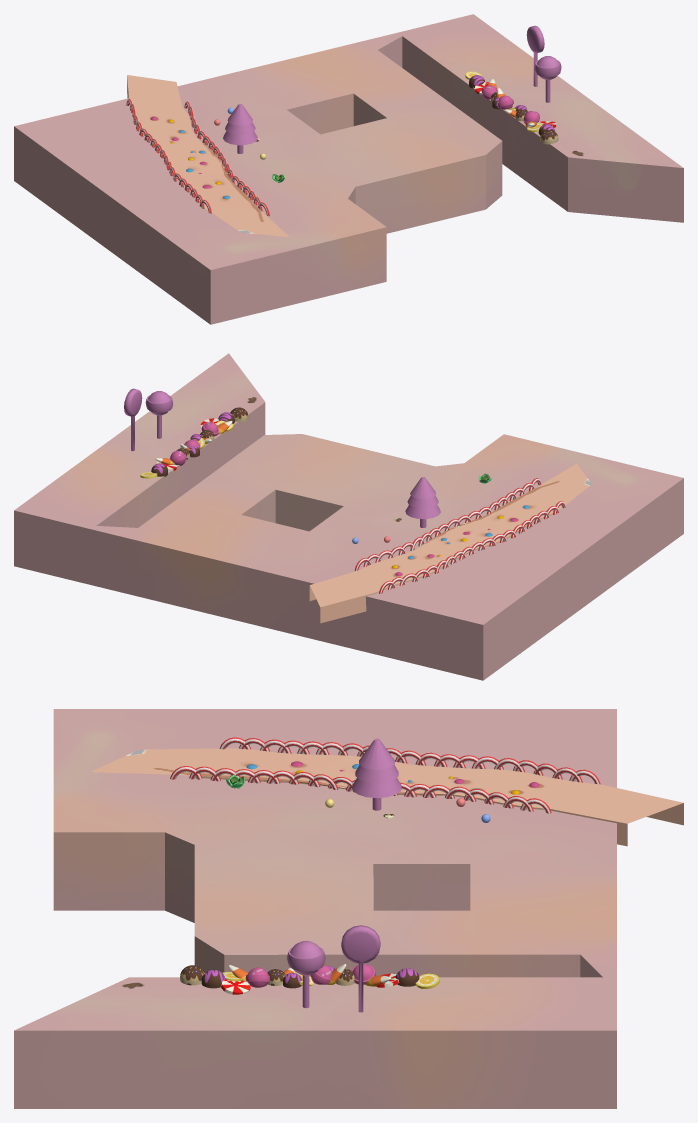
File: 여러가지.fbx
3 views of the same model, one above another, from view 1: azimuth 30°, elevation 25°; view 2: azimuth 150°, elevation 25°; view 3: azimuth 270°, elevation 25° (orthographic). The views are drawn at different scales.
Visible parts, largest first — view 1: Object031, Sphere059, Object024, Cylinder064, Sphere022, Cylinder065; view 2: Object031, Sphere059, Object024, Cylinder064, Sphere022, Cylinder065; view 3: Object031, Sphere059, Object024, Cylinder064, Cylinder065, Sphere022.
Part boxes in pixels (x1=…): Object031: x1=14, y1=14, x2=683, y2=324; Sphere059: x1=126, y1=75, x2=289, y2=237; Object024: x1=491, y1=88, x2=558, y2=144; Cylinder064: x1=223, y1=104, x2=257, y2=153; Sphere022: x1=534, y1=56, x2=561, y2=102; Cylinder065: x1=526, y1=25, x2=544, y2=86; Object031: x1=14, y1=353, x2=683, y2=680; Sphere059: x1=309, y1=463, x2=591, y2=623; Object024: x1=176, y1=407, x2=248, y2=459; Cylinder064: x1=405, y1=477, x2=440, y2=527; Sphere022: x1=145, y1=391, x2=172, y2=438; Cylinder065: x1=124, y1=388, x2=142, y2=451; Object031: x1=14, y1=709, x2=616, y2=1108; Sphere059: x1=91, y1=737, x2=683, y2=846; Object024: x1=180, y1=964, x2=354, y2=994; Cylinder064: x1=352, y1=738, x2=401, y2=810; Cylinder065: x1=341, y1=925, x2=380, y2=1012; Sphere022: x1=286, y1=940, x2=325, y2=1008.
Bounding box in the file's own units: 2718 × 643 × 2395.
Materials: 3 (2 with a texture image).
